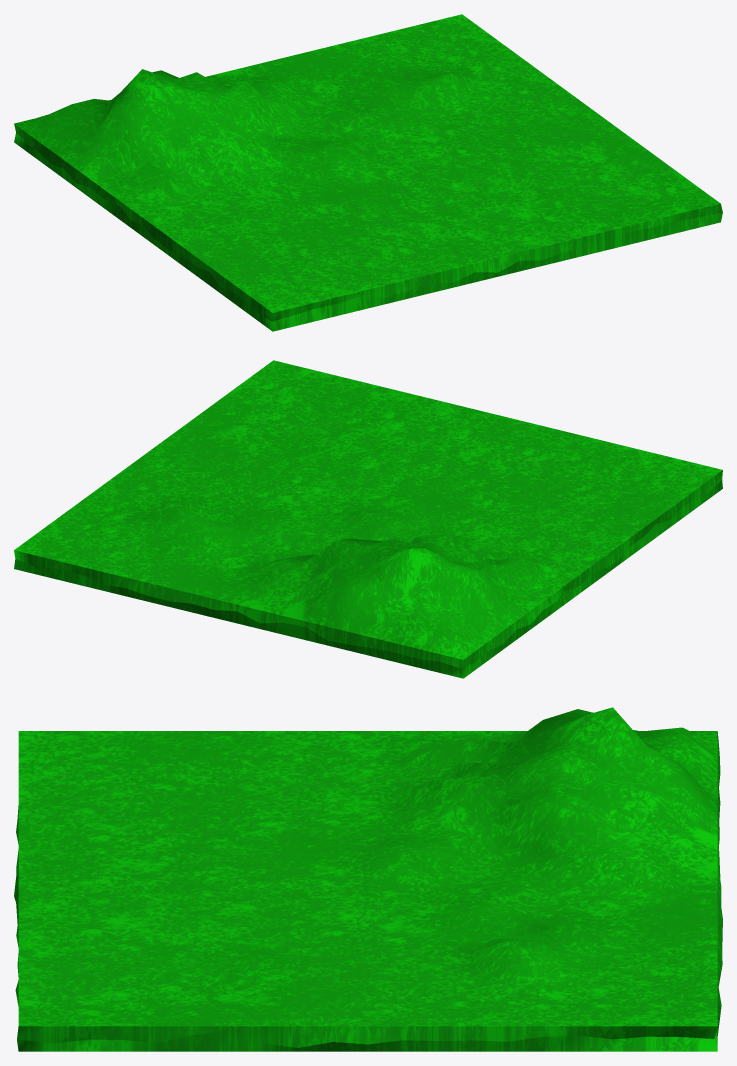
File: niwa4.fbx
3 renders of one model, top to bottom at view 1: azimuth 30°, elevation 25°; view 2: azimuth 150°, elevation 25°; view 3: azimuth 270°, elevation 25°, orthographic. The views are drawn at different scales.
Parts seen in each view (by area): view 1: pCube2; view 2: pCube2; view 3: pCube2.
Boxes of the visible parts, left/top/right/bottom form: pCube2: left=14, top=14, right=722, bottom=331; pCube2: left=14, top=360, right=722, bottom=678; pCube2: left=14, top=707, right=722, bottom=1051.
Bounding box in the file's own units: 50.83 × 8.52 × 50.7.
